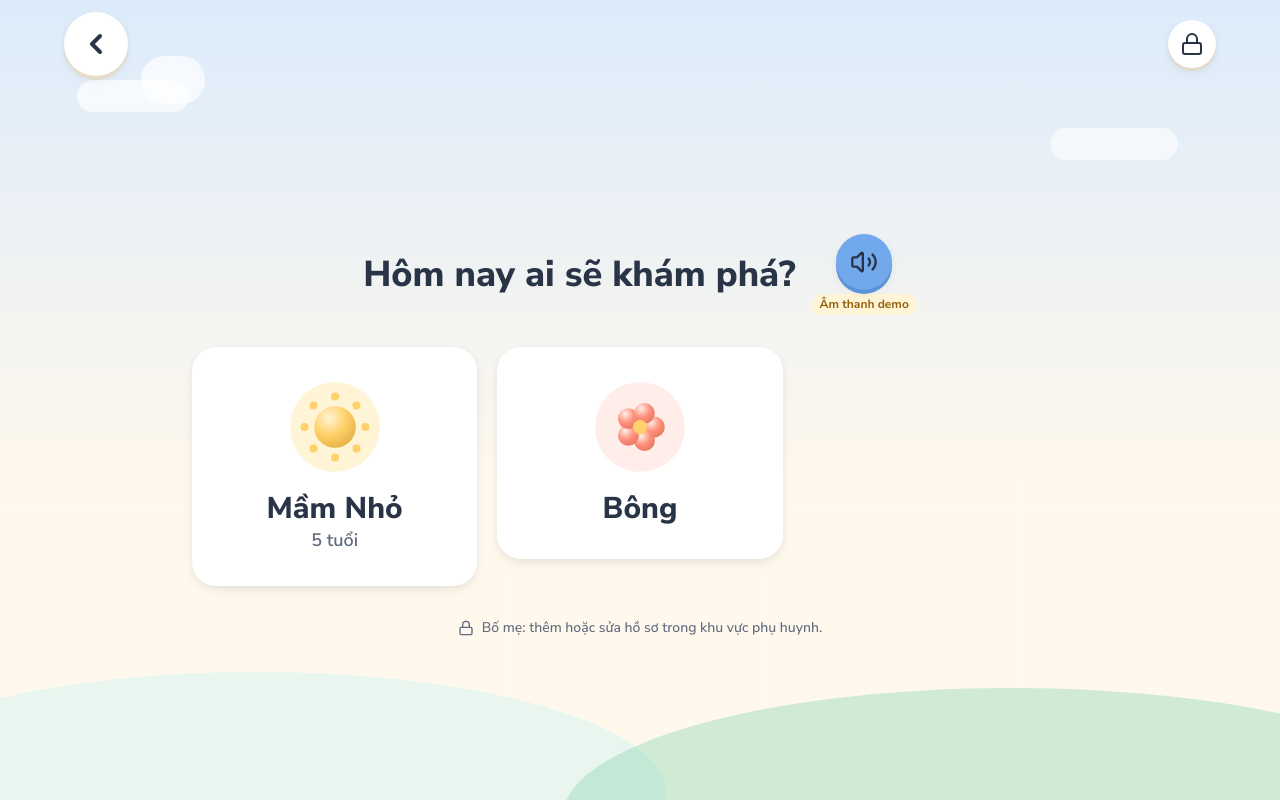
Scenario: ProfilesScreen › shows a calm message when selection is refused
Click the button "Mầm Nhỏ 5 tuổi" at (335, 466), box [192, 347, 477, 586]
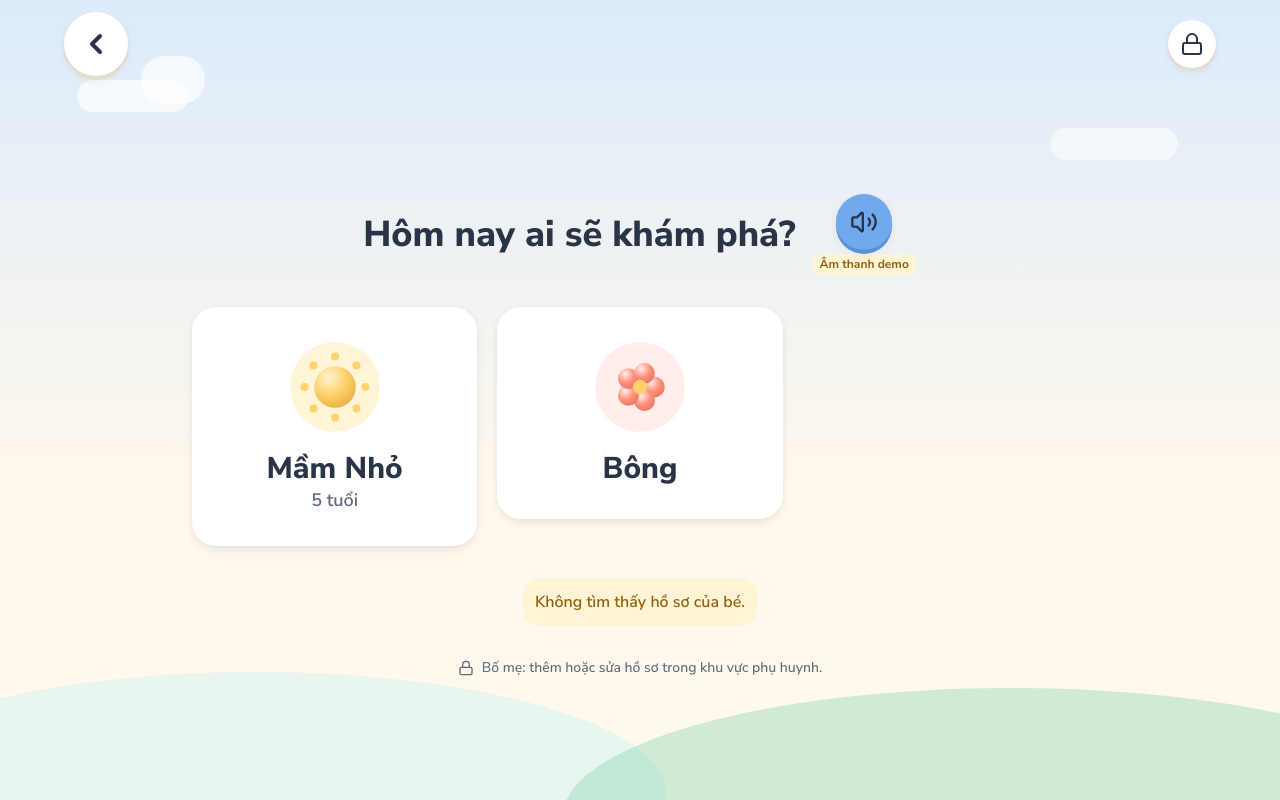
Now the message reads "Không tìm thấy hồ sơ của bé.", box [535, 591, 745, 613]
